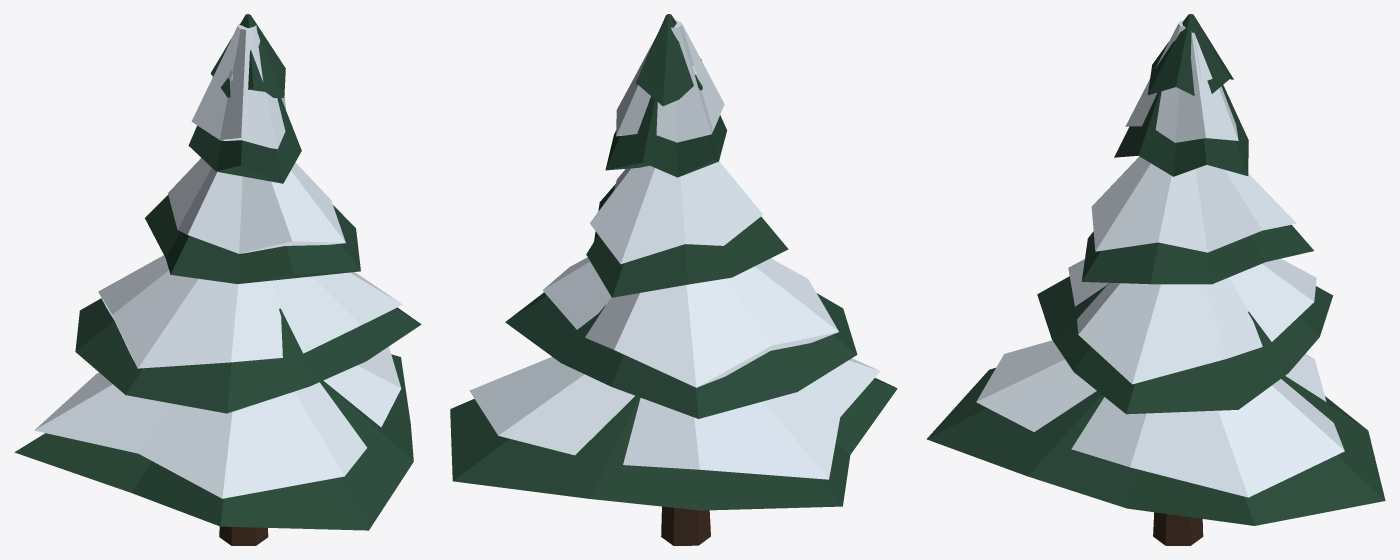
File: Station_Pine_5_0_0.fbx
3 renders of one model, left to right at view 1: azimuth 30°, elevation 25°; view 2: azimuth 150°, elevation 25°; view 3: azimuth 270°, elevation 25°, orthographic. The views are drawn at different scales.
Parts seen in each view (by area): view 1: Station_Pine_5_0_0; view 2: Station_Pine_5_0_0; view 3: Station_Pine_5_0_0.
Part boxes in pixels (<box>): Station_Pine_5_0_0: <box>14,14,421,545</box>; Station_Pine_5_0_0: <box>450,14,897,545</box>; Station_Pine_5_0_0: <box>927,14,1385,545</box>.
Bounding box in the file's own units: 473 × 602 × 476.
